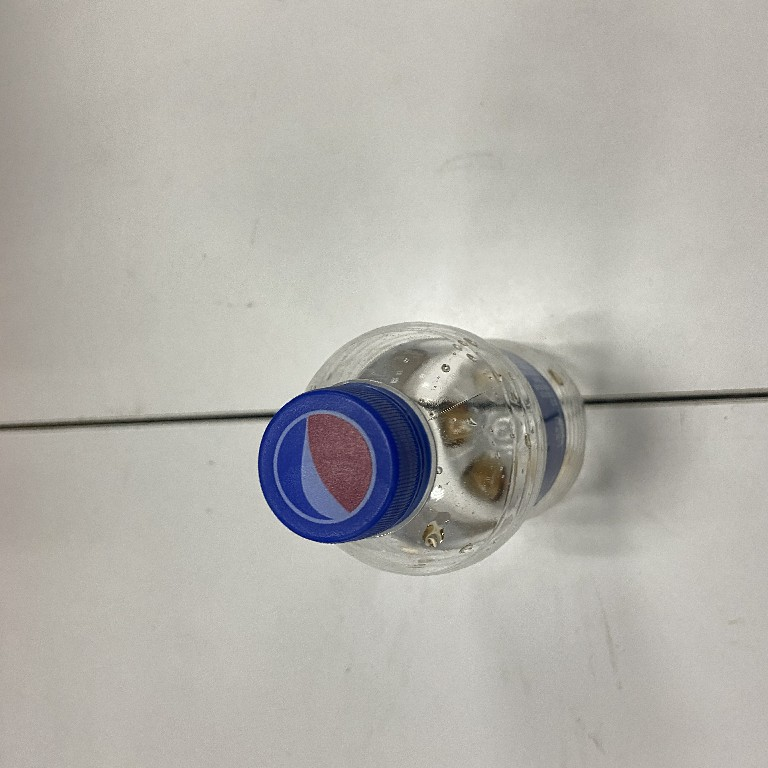bottle: (253, 320, 598, 578)
